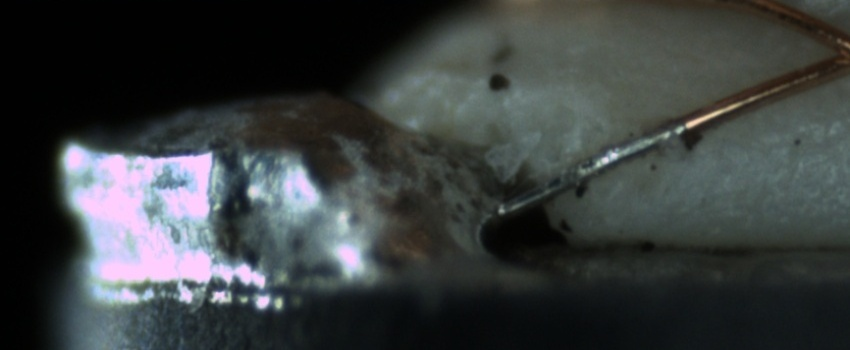CL: (803, 13, 850, 83)
TS: (495, 118, 689, 219)
